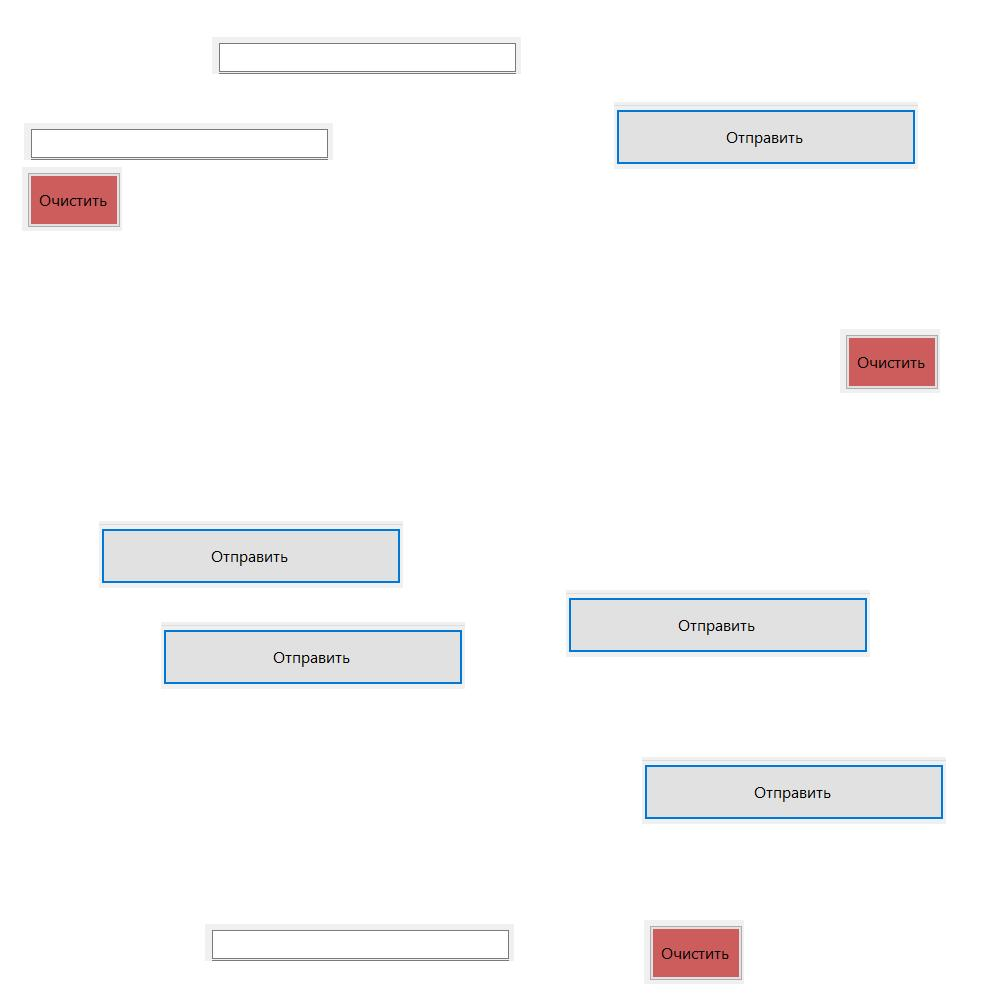Button: (161, 622, 465, 689), (99, 521, 403, 588), (566, 590, 870, 657), (642, 757, 946, 824), (614, 102, 918, 169), (644, 920, 744, 984), (840, 329, 940, 393), (22, 167, 122, 231)
EditText-: (205, 924, 514, 961), (212, 37, 521, 74), (24, 123, 333, 160)
